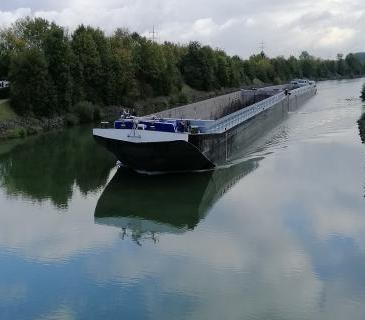Ship: (82, 19, 320, 191)
